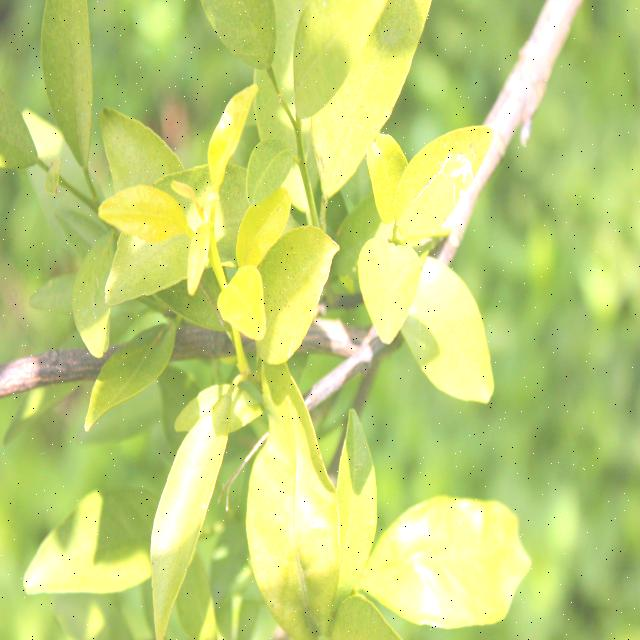blackspot: (322, 2, 412, 167), (270, 471, 326, 617), (150, 474, 199, 583), (268, 244, 310, 336)
